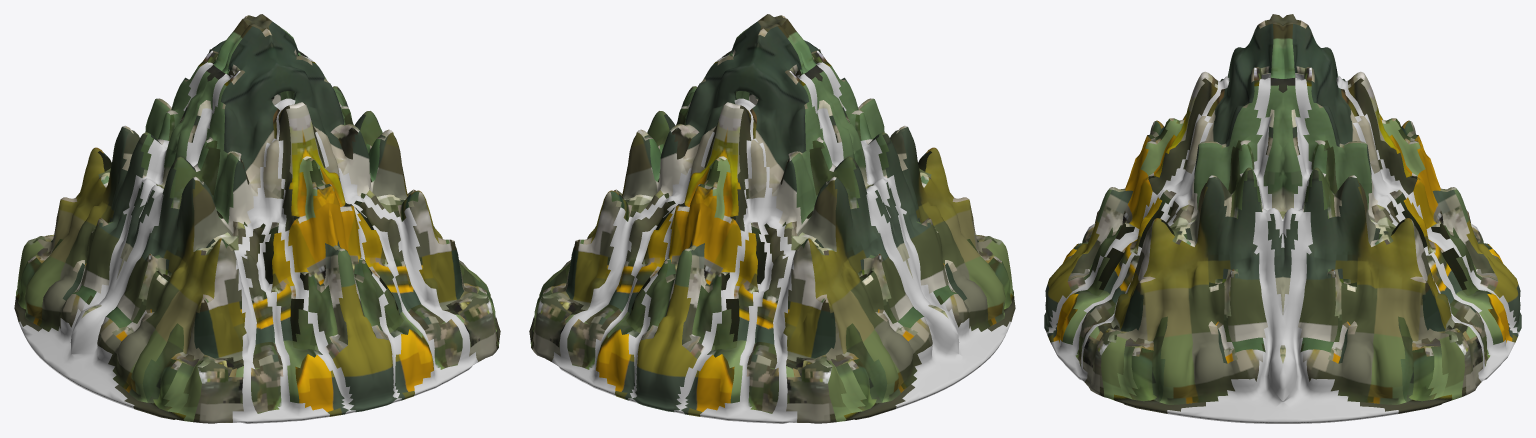
File: Mount(NoCrater).fbx
The picture shows the model from 3 angles, left to right: view 1: azimuth 30°, elevation 25°; view 2: azimuth 150°, elevation 25°; view 3: azimuth 270°, elevation 25°; orthographic projection.
Visible parts, largest first — view 1: Mount(NoCrater); view 2: Mount(NoCrater); view 3: Mount(NoCrater).
Part boxes in pixels (x1,y1,x2,y2): Mount(NoCrater): [14, 14, 500, 423]; Mount(NoCrater): [529, 14, 1015, 423]; Mount(NoCrater): [1044, 14, 1521, 423].
Bounding box in the file's own units: 114 × 82.14 × 116.
